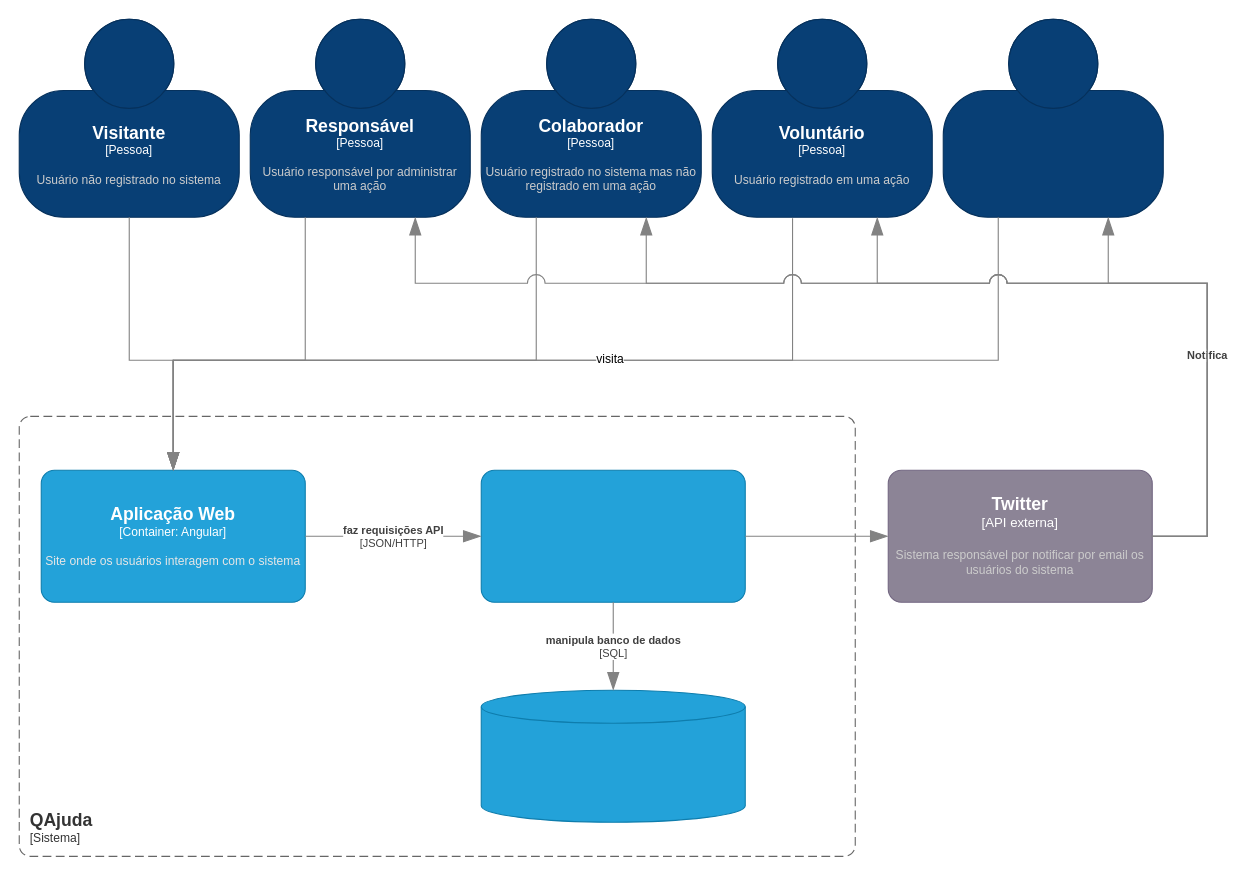
This 1246x876 diagram has some shape labels left out. The centre of each missing label's shape, as x and y in pixels:
Administrador [Pessoa] Usuário designado a moderar o sistema: point (1052, 117)
API [Container: Django REST] Recebe e faz requisições, manipula banco de dados: point (612, 535)
Database [Banco de dados: SQLite3] Armazena dados do sistema: point (612, 755)
